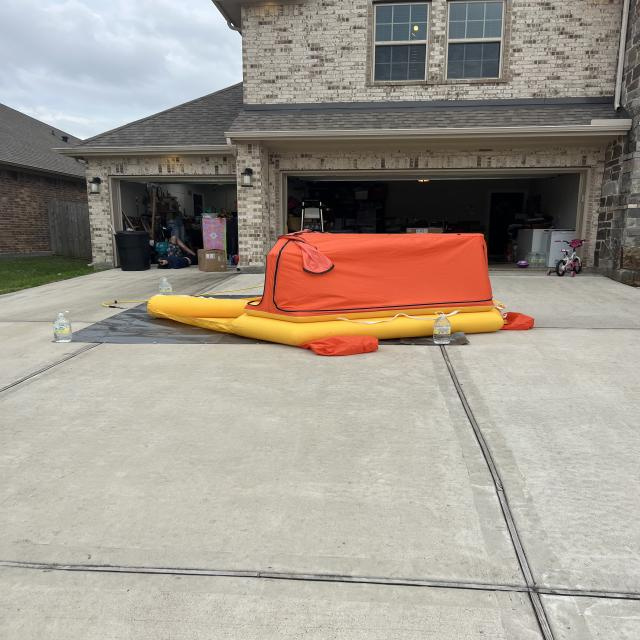Multi-person_life_raft: (146, 228, 534, 356)
